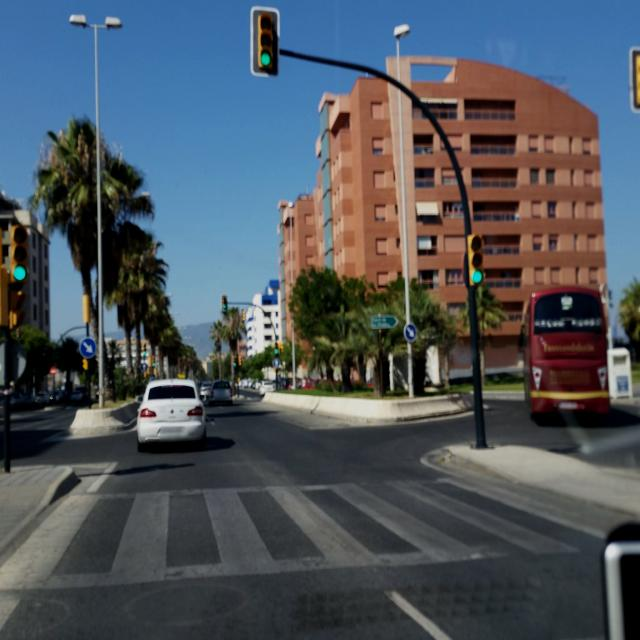car: (136, 378, 207, 452), (208, 379, 233, 406), (20, 392, 38, 408), (199, 380, 212, 399), (36, 391, 52, 406), (259, 380, 275, 394), (70, 389, 84, 403)
